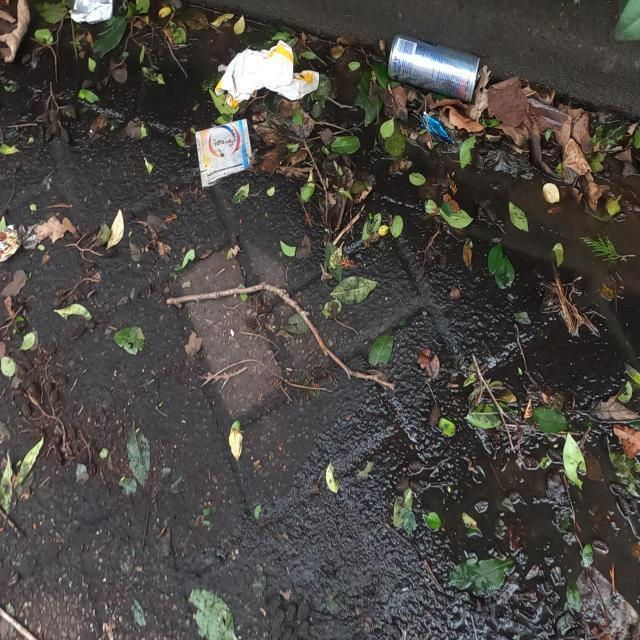Can-Metal: (386, 32, 482, 104)
Paper: (214, 40, 320, 108)
Plastic: (195, 116, 252, 189), (527, 97, 569, 127), (420, 111, 455, 145)
